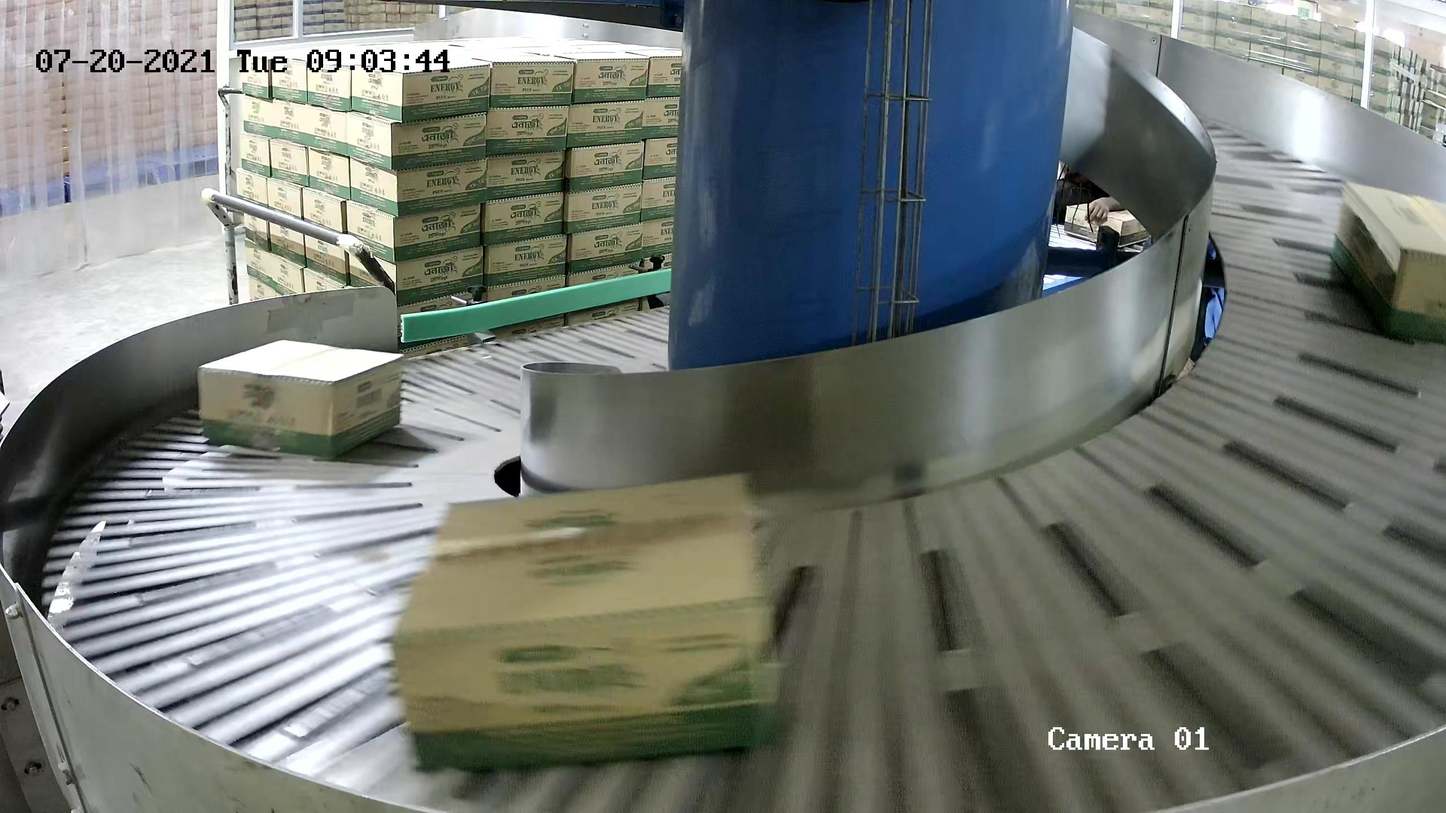Box: (390, 469, 782, 773), (196, 339, 405, 459), (1328, 180, 1446, 342)
